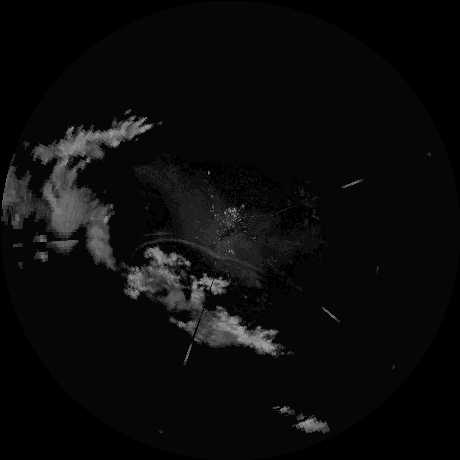frontgust: (142, 236, 259, 269)
